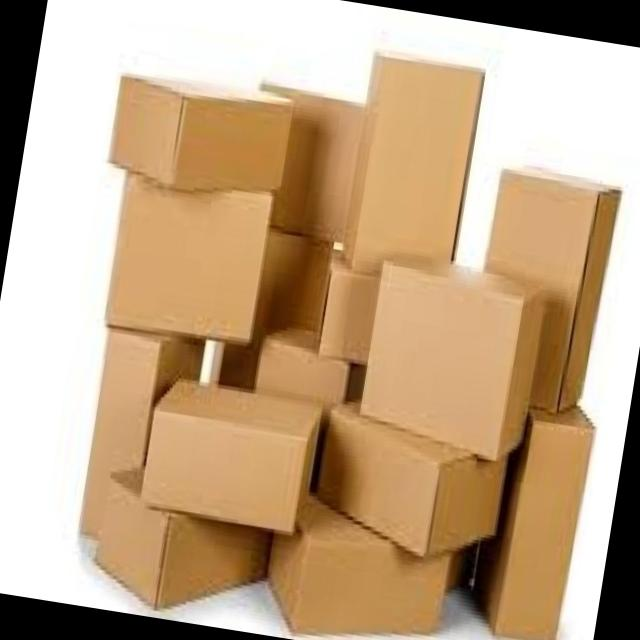cardboard paper: (362, 261, 543, 457), (486, 168, 619, 411), (346, 54, 484, 270), (319, 407, 503, 555), (143, 378, 322, 530), (109, 173, 272, 339), (268, 496, 457, 633), (89, 468, 270, 607), (491, 406, 594, 640), (110, 76, 292, 189), (83, 330, 161, 533), (256, 331, 349, 402)
